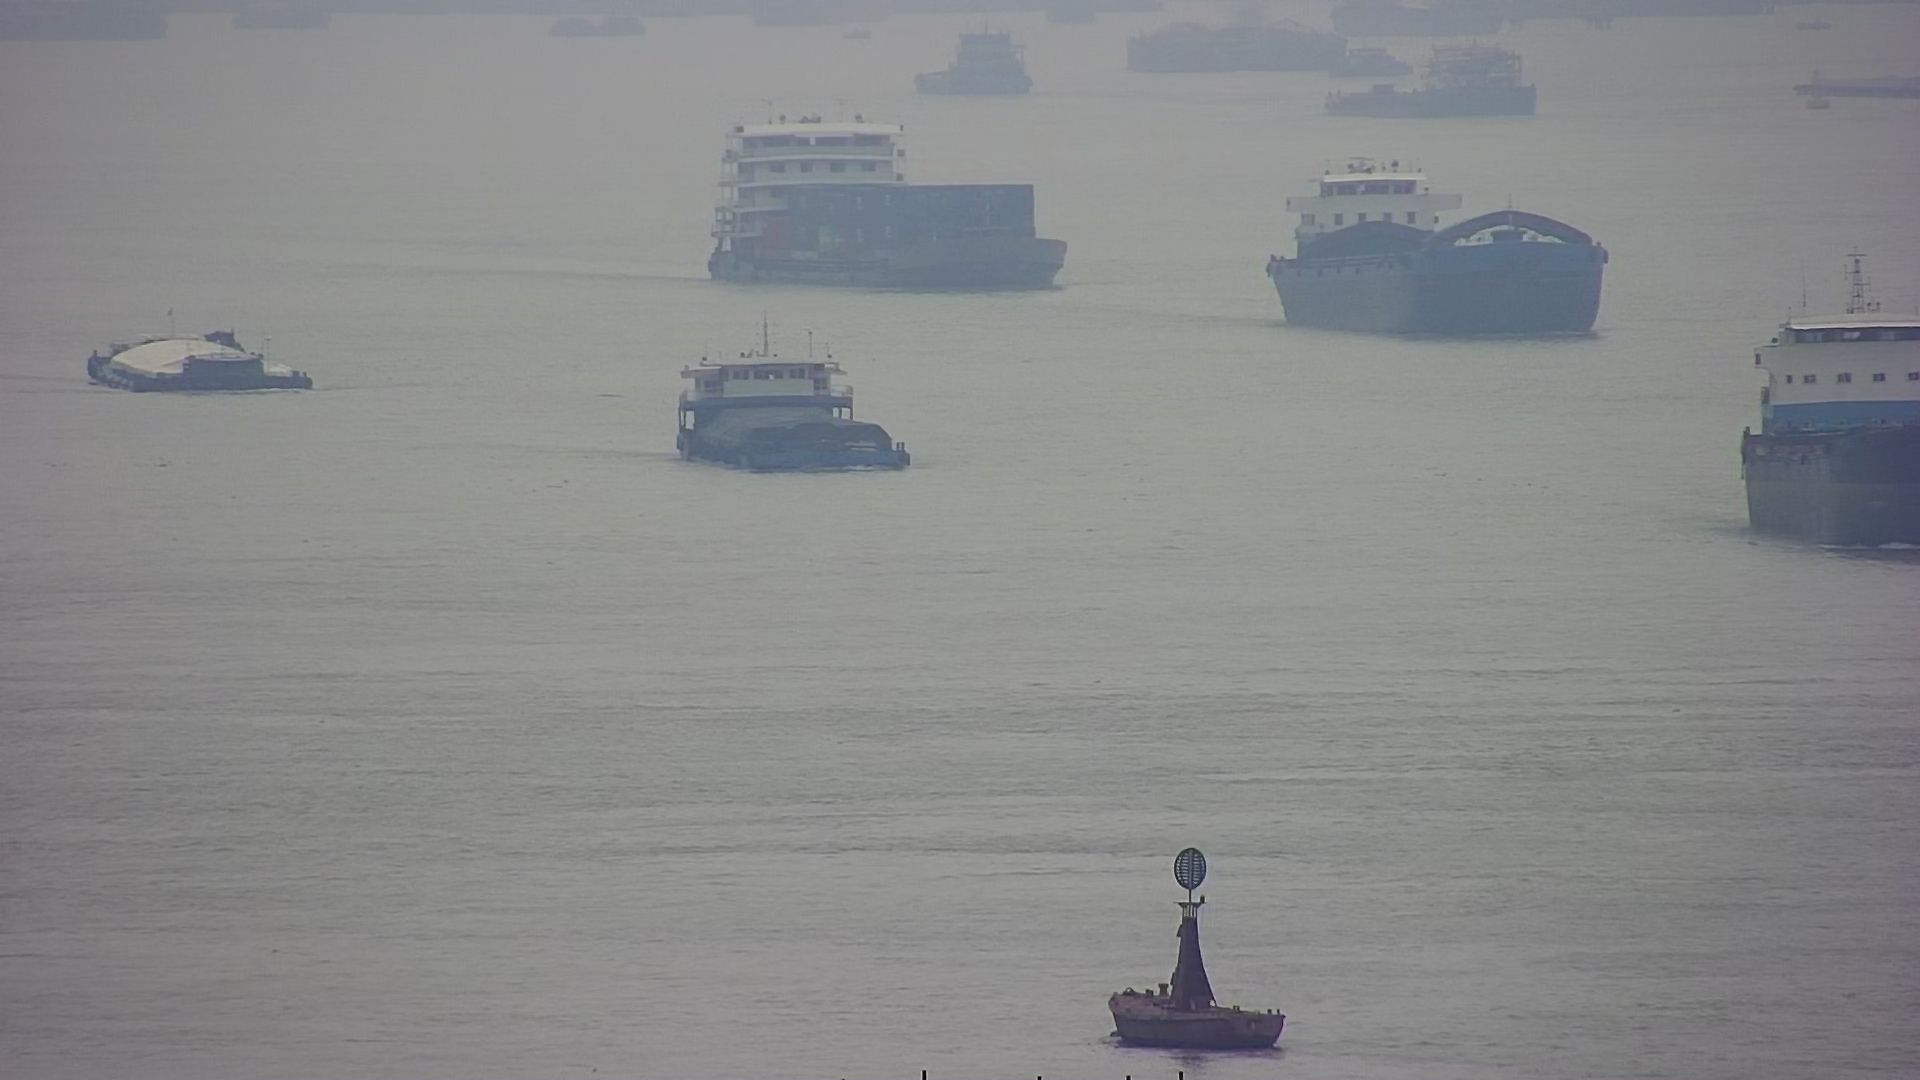boat: (1101, 837, 1286, 1055)
ship: (704, 108, 1073, 301), (1262, 145, 1604, 338), (1733, 265, 1920, 553), (659, 328, 913, 477), (91, 301, 318, 400)
